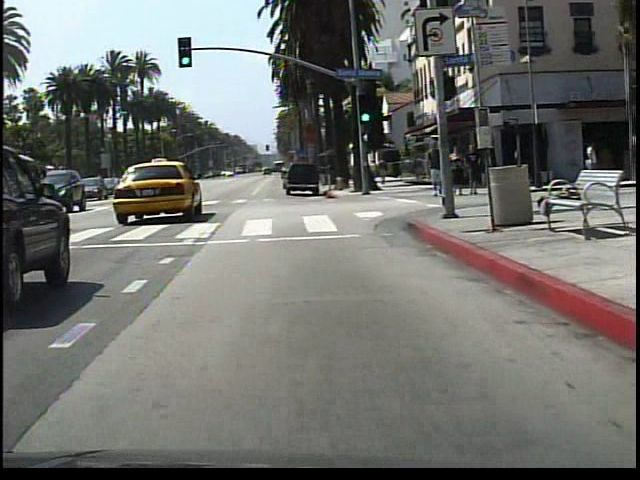person: (424, 141, 444, 201), (581, 136, 598, 185)
